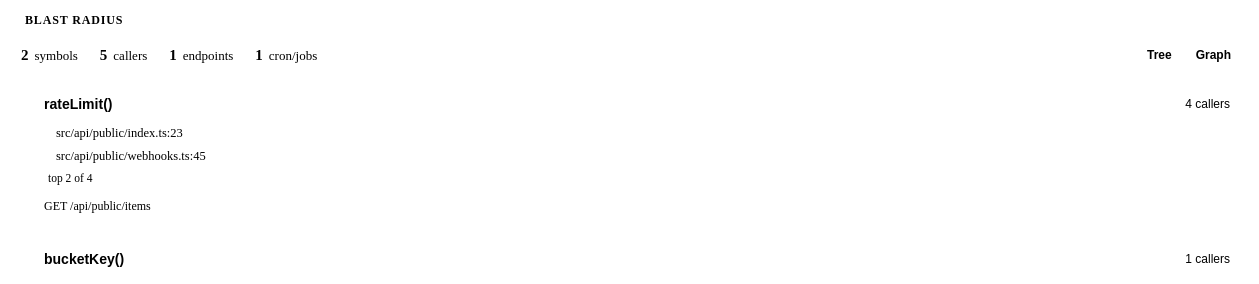
Test case: BlastRadiusCard — the map › collapses the first symbol on click, so the default is an override not a lock
The image size is (1259, 284).
Click the button "rateLimit() 4 callers". click: (74, 104)
box: [16, 86, 1242, 122]
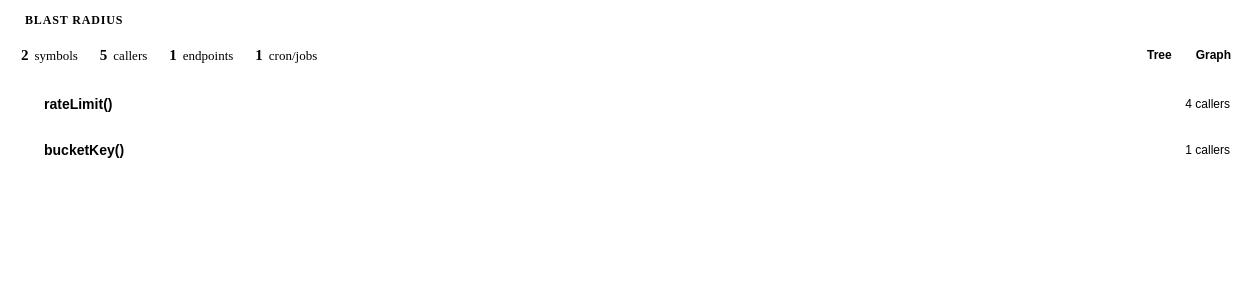
expect the text "src/api/public/index.ts:23" is gone: met
